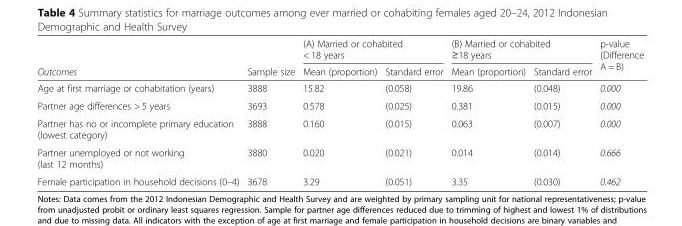table: (36, 37, 643, 186)
table column: (36, 37, 242, 186), (446, 37, 529, 186), (298, 37, 380, 186), (380, 37, 446, 186), (529, 37, 595, 186), (242, 37, 298, 186), (595, 37, 643, 186)
table column header: (36, 37, 643, 79)
table row: (36, 114, 643, 143), (36, 143, 643, 172), (36, 37, 643, 62), (36, 96, 643, 114), (36, 62, 643, 79), (36, 79, 643, 96), (36, 172, 643, 186)
table spanning cell: (36, 37, 242, 79), (446, 37, 595, 62), (298, 37, 446, 62), (242, 37, 298, 79), (595, 37, 643, 79)
